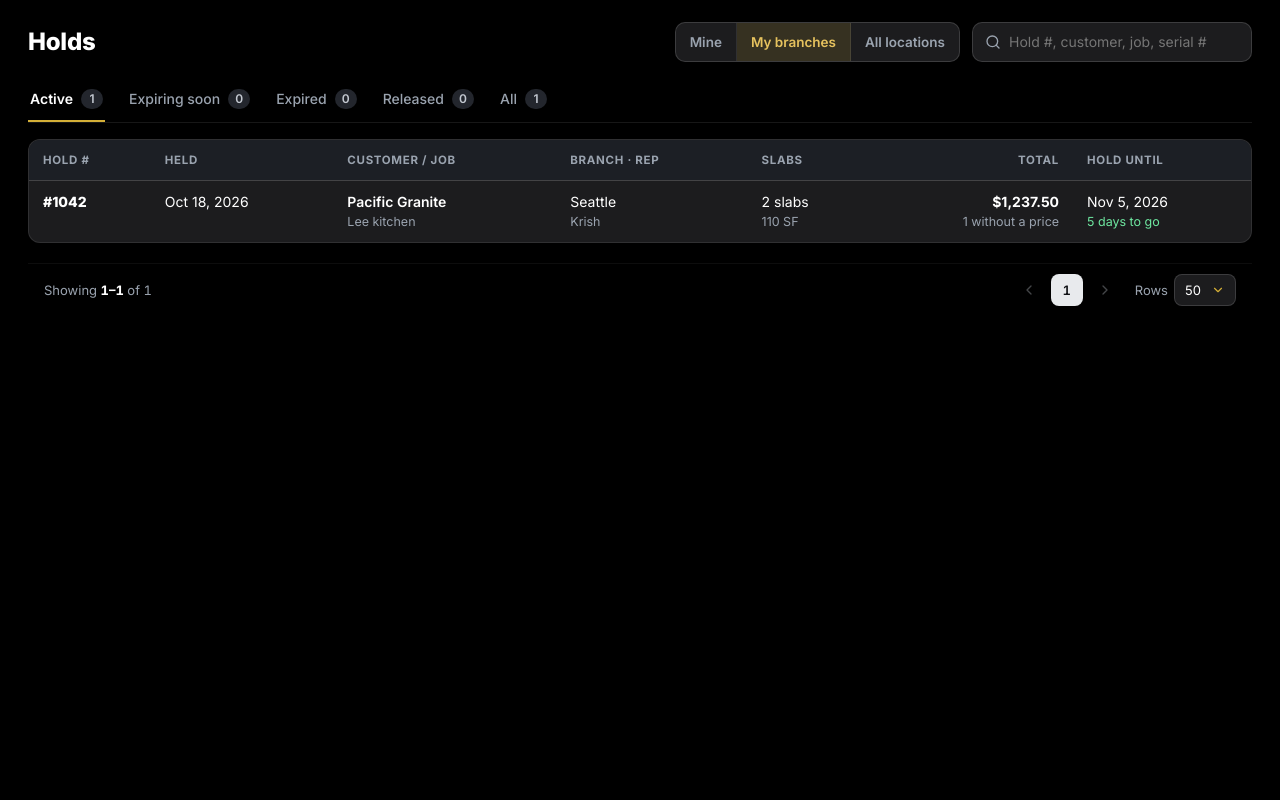
it: Holds list › opens a hold from its row, and Back returns to the list
The image size is (1280, 800).
Click the row with class "hl-row" at (69, 201), box left=29, top=180, right=1251, bottom=242
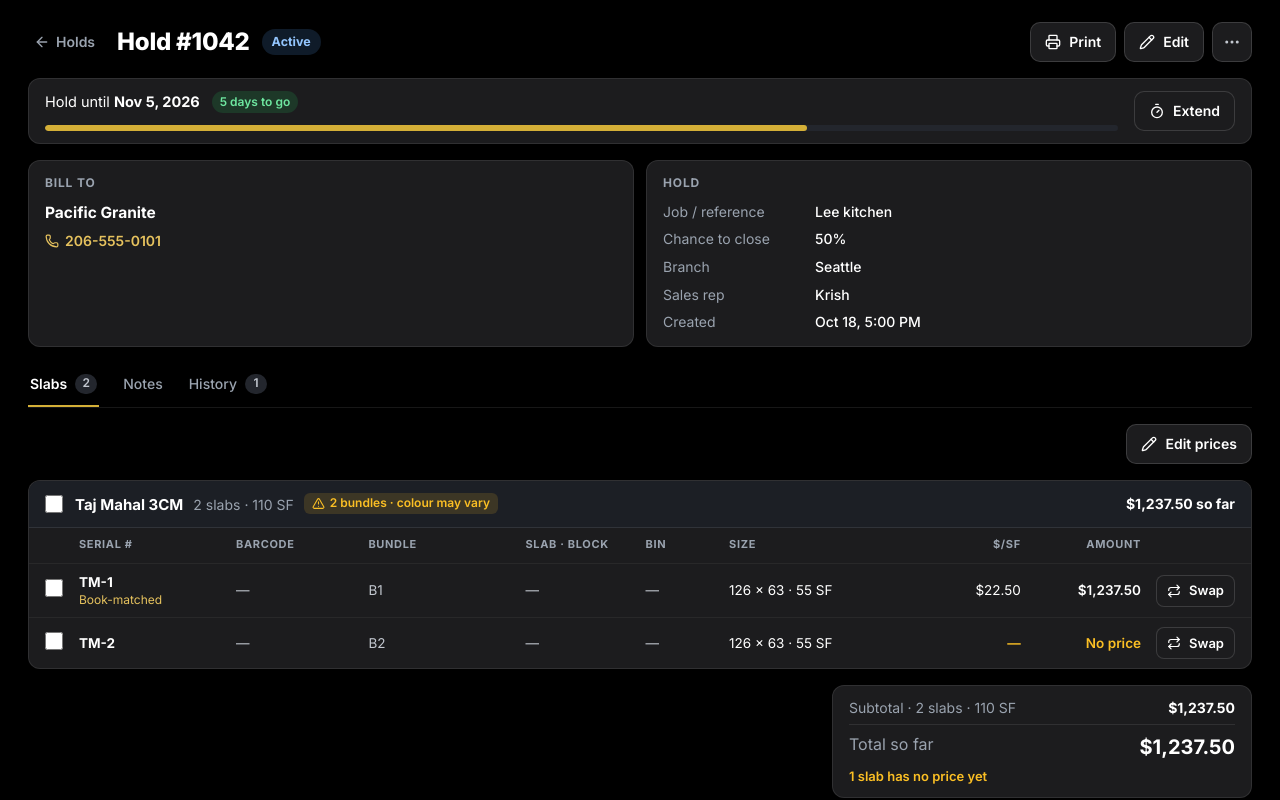
Expected: the heading "Hold #1042" is shown, left=117, top=25, right=250, bottom=59
Click the button with class "hl-back" at (67, 42), box left=28, top=24, right=105, bottom=60
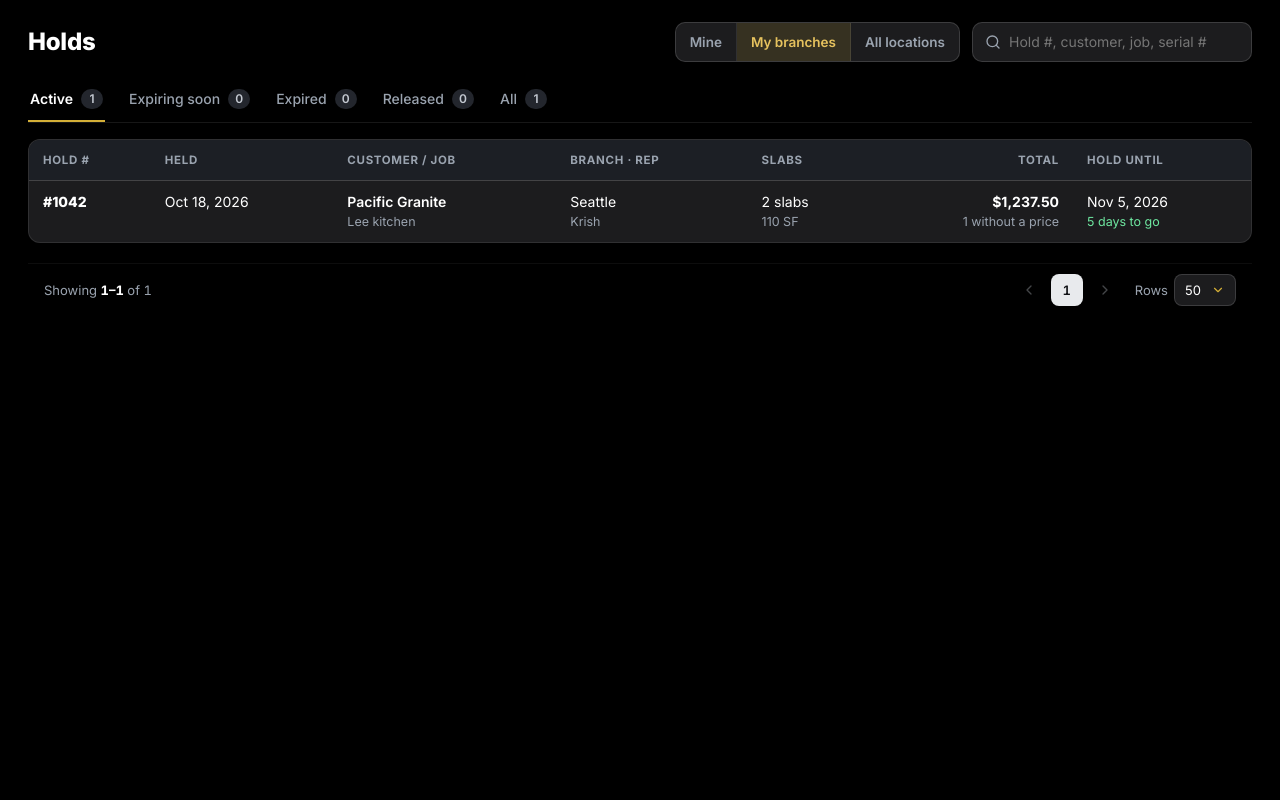
Expected: the table with class "hl-table" is shown, left=29, top=140, right=1251, bottom=242
